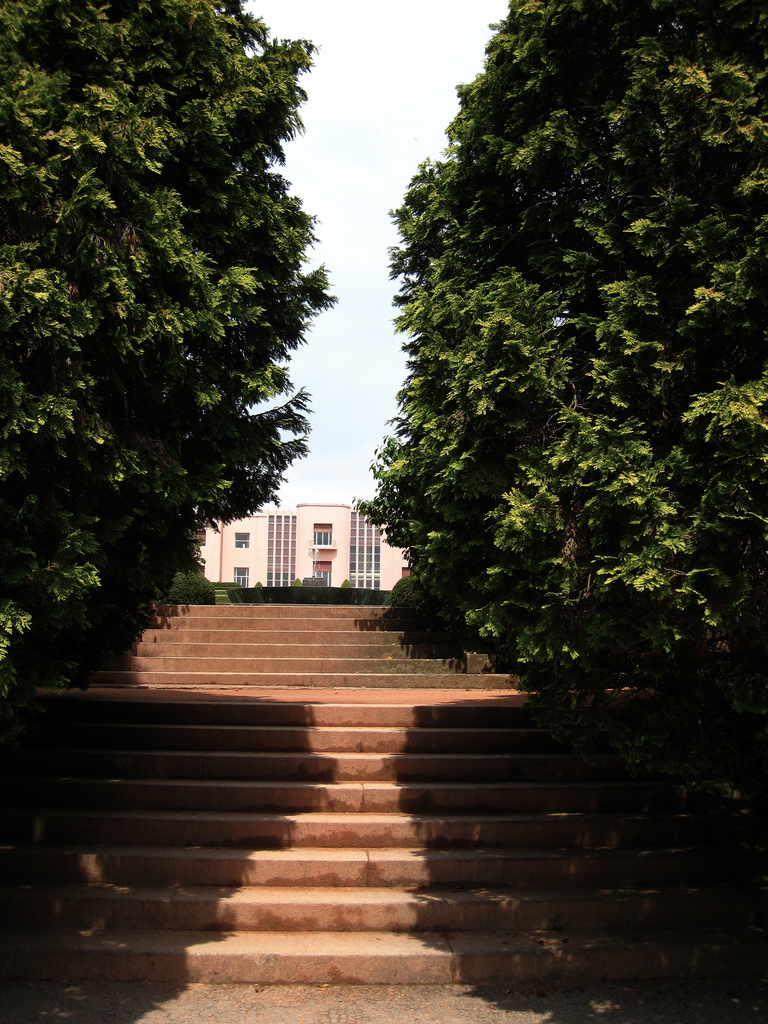serralves: (190, 502, 425, 594)
